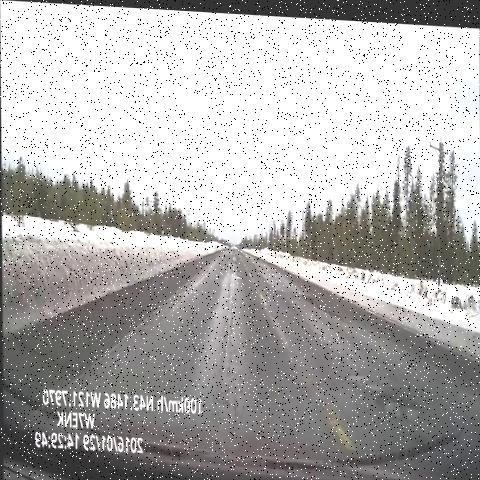pothole: (349, 359, 429, 437), (297, 281, 347, 331), (226, 263, 247, 283), (227, 241, 244, 265)
